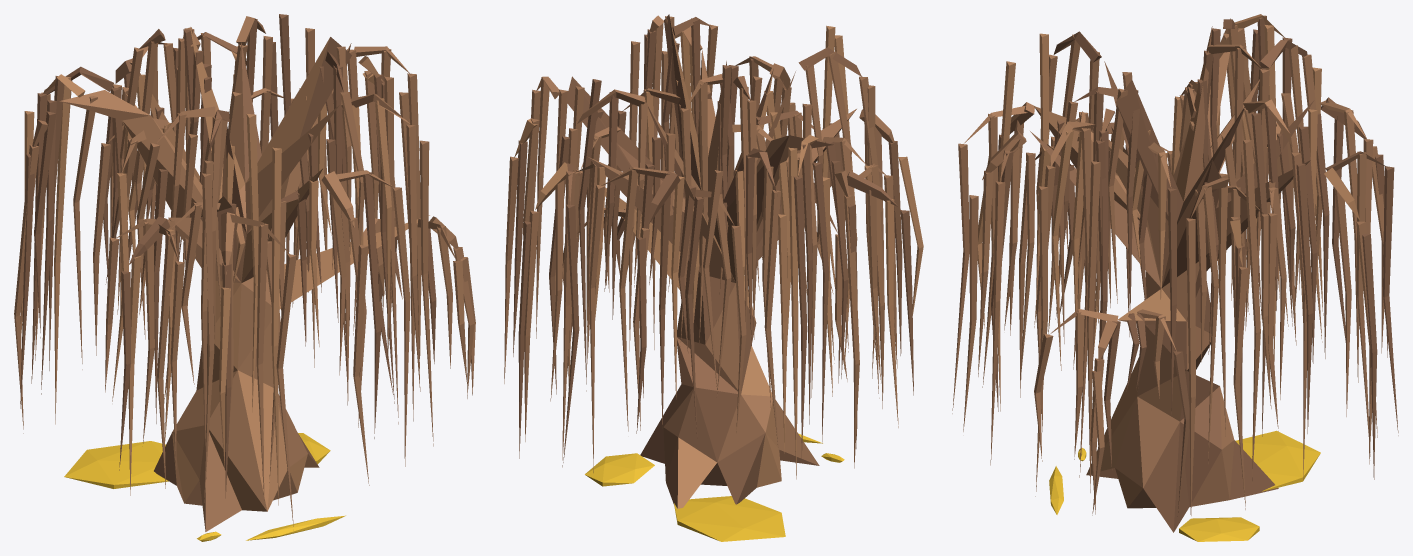
The model's file is giant_willow_bare_far.glb.
3 renders of one model, left to right at view 1: azimuth 30°, elevation 25°; view 2: azimuth 150°, elevation 25°; view 3: azimuth 270°, elevation 25°, orthographic. The views are drawn at different scales.
Visible parts, largest first — view 1: giant_willow_bare_far; view 2: giant_willow_bare_far; view 3: giant_willow_bare_far.
Boxes of the visible parts, x1,y1,x2,y2 form: giant_willow_bare_far: (14, 14, 475, 541); giant_willow_bare_far: (504, 14, 923, 541); giant_willow_bare_far: (952, 14, 1398, 541).
Bounding box in the file's own units: 21.85 × 24.6 × 21.85.
